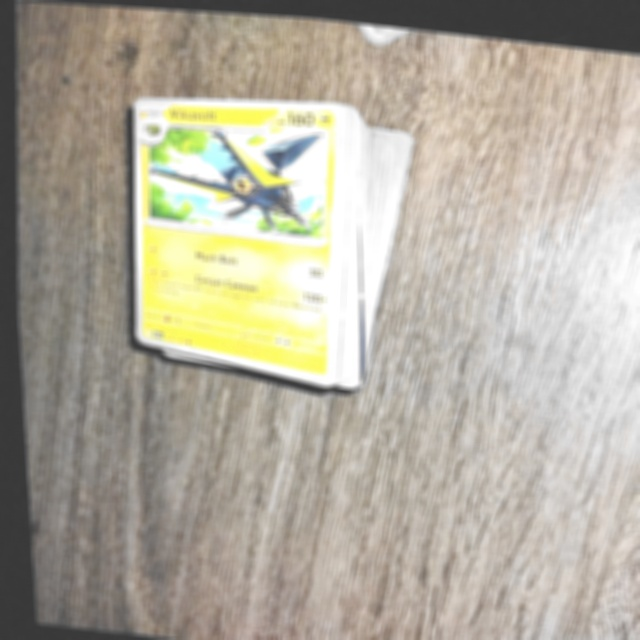card: (132, 92, 346, 381)
